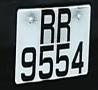4: (71, 43, 87, 78)
5: (54, 46, 73, 82), (36, 49, 55, 81)
9: (19, 47, 38, 84)
R: (54, 6, 74, 48), (36, 11, 57, 46)
